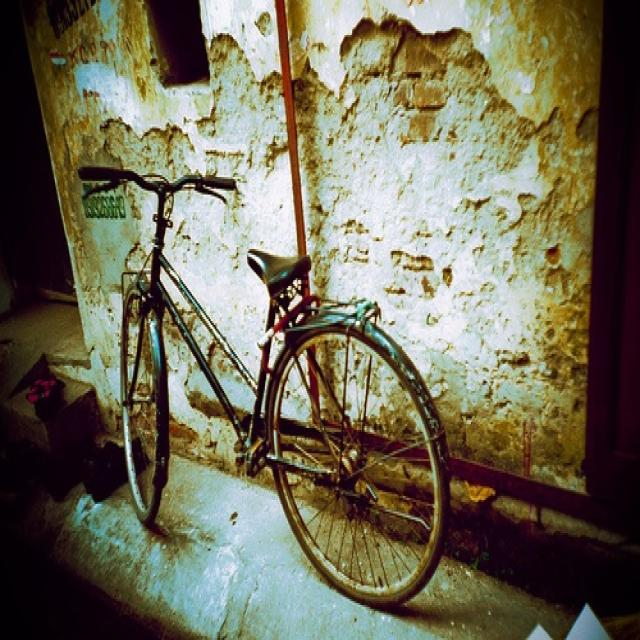bicycle: (74, 161, 452, 611)
